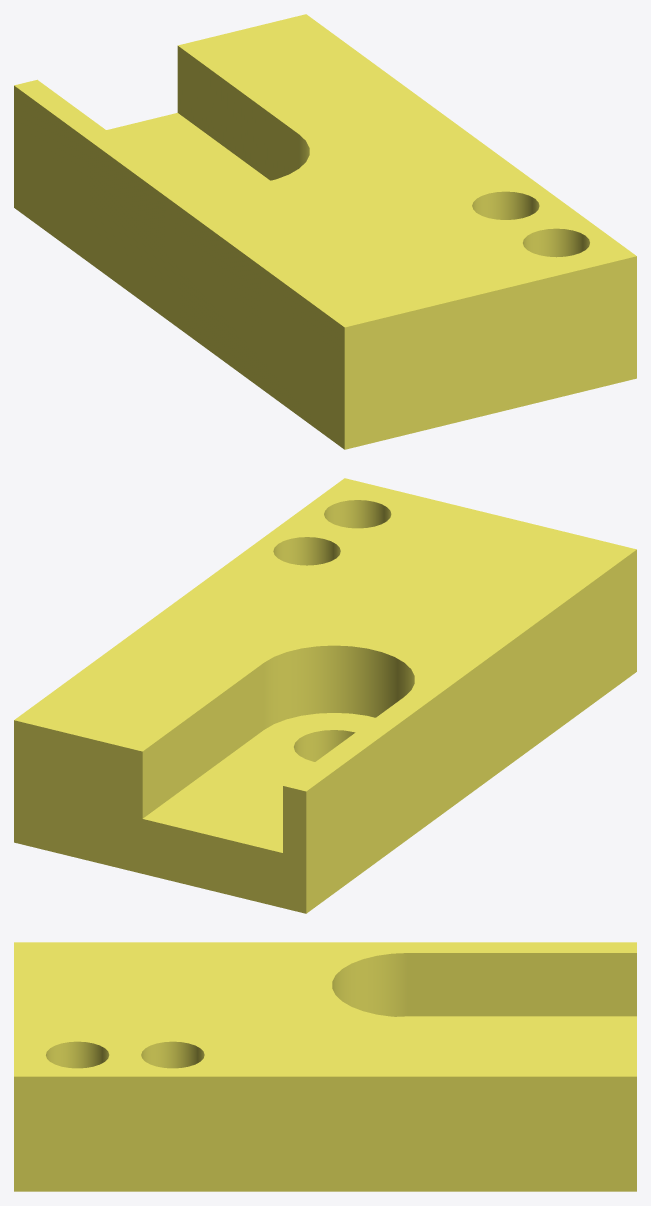
3 views of the same model, one above another, from view 1: azimuth 30°, elevation 25°; view 2: azimuth 150°, elevation 25°; view 3: azimuth 270°, elevation 25° (orthographic). The views are drawn at different scales.
Parts seen in each view (by area): view 1: 1025; view 2: 1025; view 3: 1025.
Part boxes in pixels (bbox=[...]): 1025: bbox=[14, 14, 636, 449]; 1025: bbox=[14, 478, 636, 913]; 1025: bbox=[14, 942, 636, 1191].
Size of the model in its own units: 0.05 by 0.02 by 0.098.
